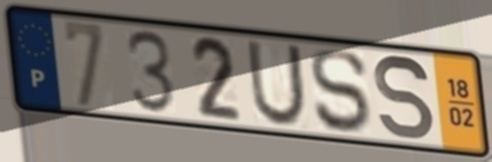2: (188, 35, 244, 124)
3: (124, 28, 177, 116)
7: (61, 17, 109, 111)
S: (371, 51, 438, 144), (307, 47, 372, 136)
U: (243, 39, 309, 130)
